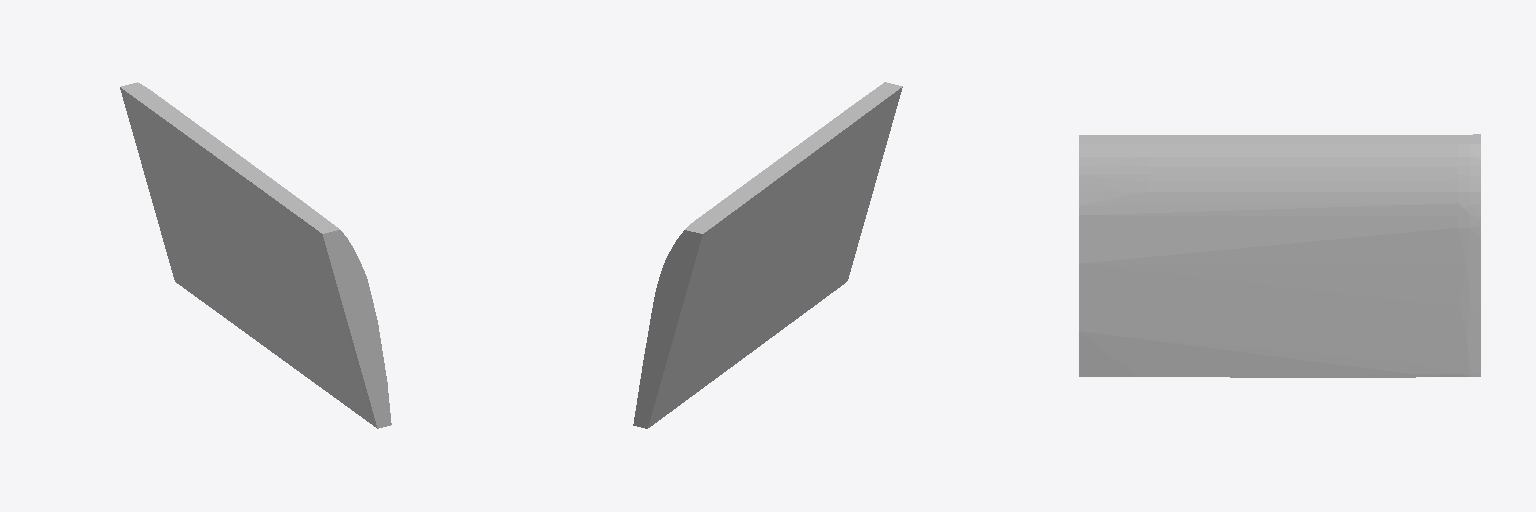
File: laundry_basket_collision_8.obj
3 renders of one model, left to right at view 1: azimuth 30°, elevation 25°; view 2: azimuth 150°, elevation 25°; view 3: azimuth 270°, elevation 25°, orthographic.
Bounding box in the file's own units: 0.2121 × 0.5918 × 1.04.